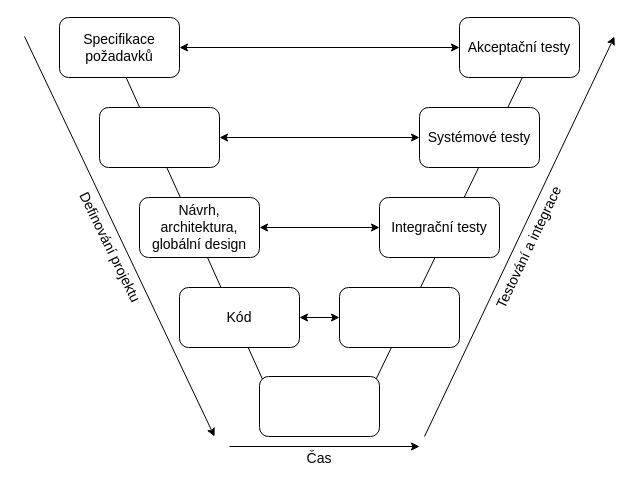
This 640x486 diagram has some shape labels left out. The centre of each missing label's shape, as x and y in pixels:
"Implementace" belongs at (319,406).
"Návrh systému" belongs at (159,137).
"Unit testy" belongs at (399,317).
